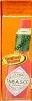grozi_98: (0, 0, 32, 101)
